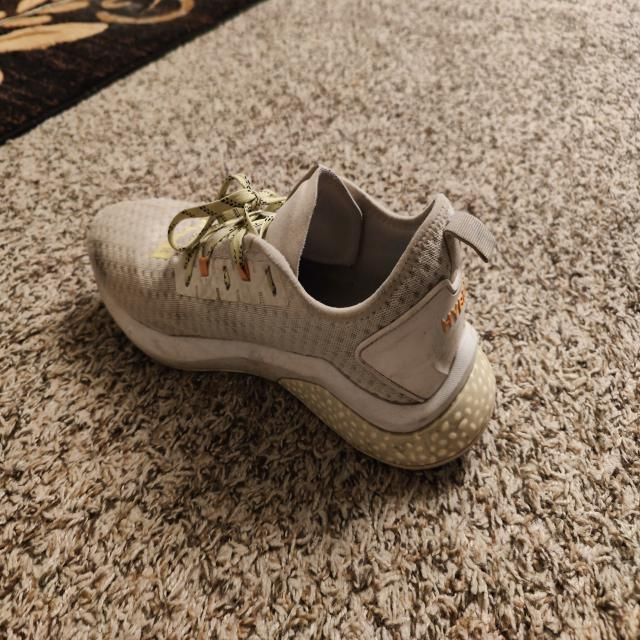white shoes: (86, 166, 492, 463)
